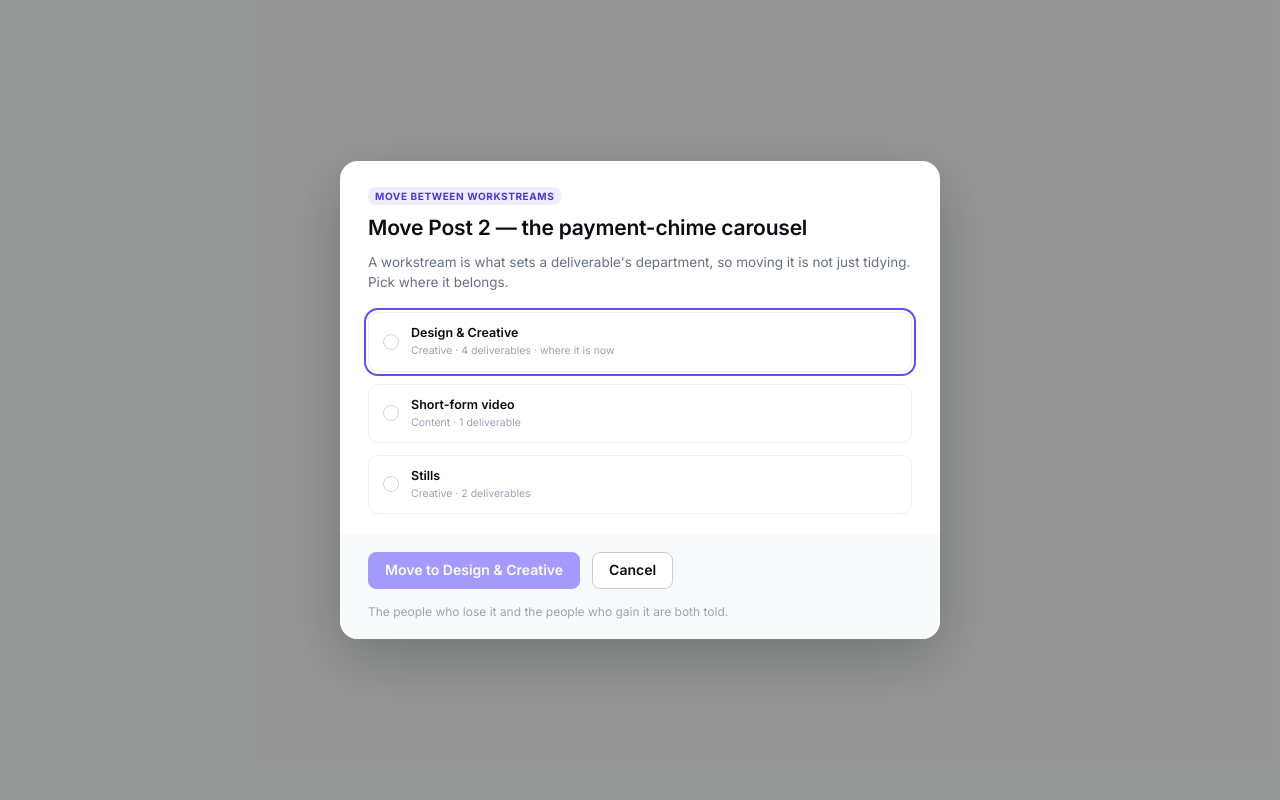
Test: MoveToWorkstreamDialog › does not warn about a department that is not changing
Click the radio button with test id "move-workstream-option-ws3".
click(471, 494)  # box [368,455,912,514]
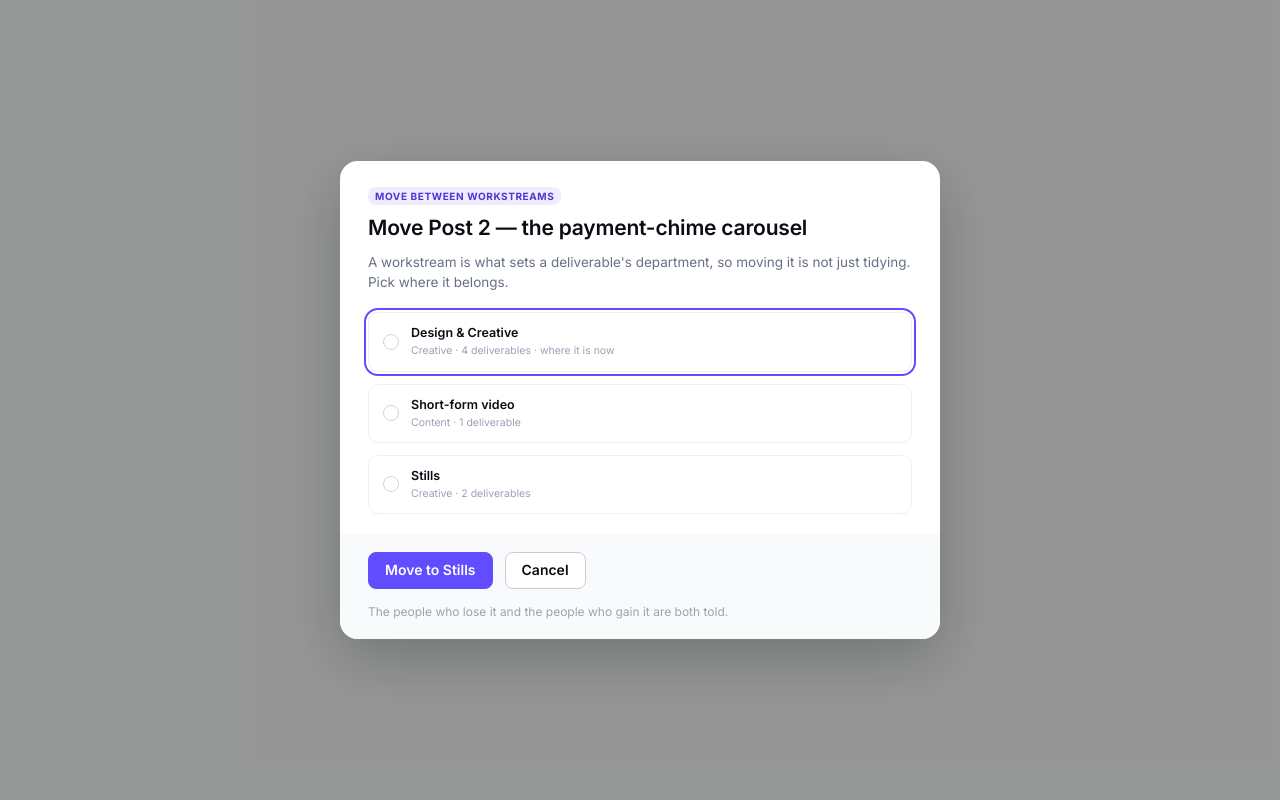
Check: the button with test id "move-workstream-submit" is enabled, box [368,552,492,589]
